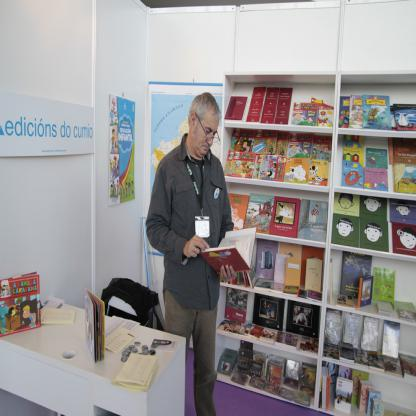book: (214, 339, 317, 413), (221, 126, 334, 190), (214, 286, 319, 354), (323, 306, 416, 380), (327, 255, 415, 322), (332, 190, 415, 260), (316, 358, 410, 416), (252, 238, 327, 304), (339, 134, 416, 196), (197, 226, 258, 280), (335, 92, 415, 130), (218, 244, 260, 292), (246, 83, 294, 122), (290, 93, 333, 130), (240, 191, 274, 237), (267, 196, 300, 238), (300, 196, 328, 244), (227, 192, 250, 230), (222, 96, 248, 121), (148, 336, 178, 354)
